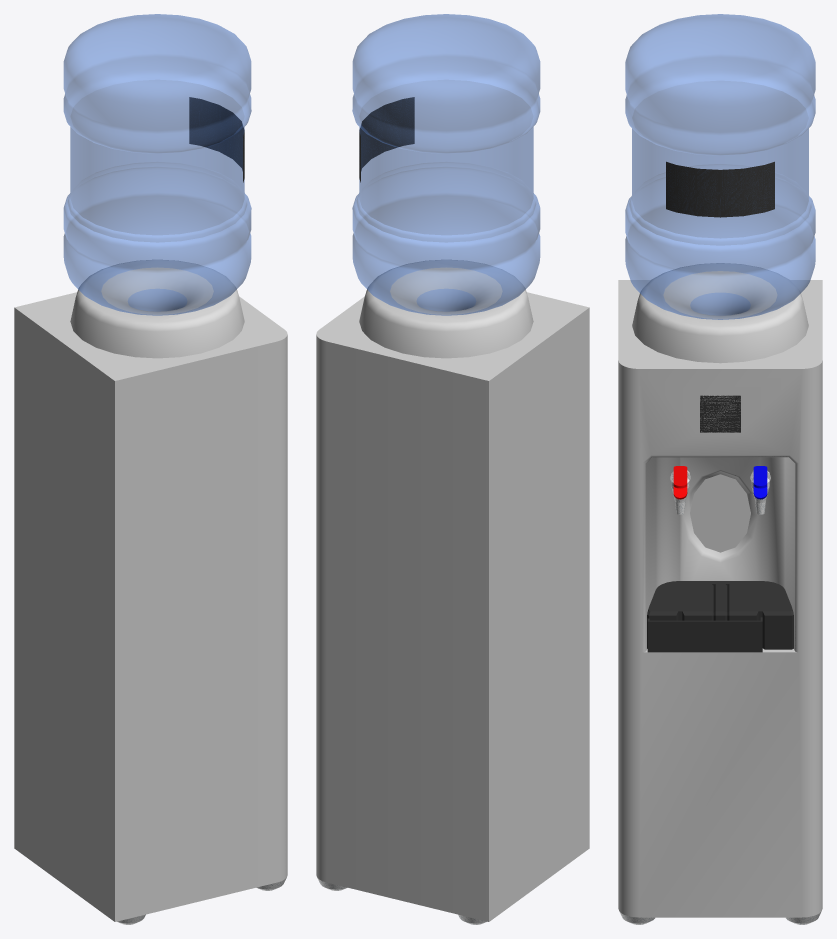
File: 饮水机.dae
3 views of the same model, side by side, from view 1: azimuth 30°, elevation 25°; view 2: azimuth 150°, elevation 25°; view 3: azimuth 270°, elevation 25° (orthographic).
Visible parts, largest first — view 1: Water_dispenser_Box (×3), Water_dispenser_Bottle (×2); view 2: Water_dispenser_Box (×3), Water_dispenser_Bottle (×2); view 3: Water_dispenser_Box (×6), Water_dispenser_Bottle (×2), Water_dispenser_02, Water_dispenser_03.
Boxes of the visible parts, bbox=[...] form: Water_dispenser_Box (×3): bbox=[14, 260, 287, 921]; Water_dispenser_Bottle (×2): bbox=[63, 14, 251, 315]; Water_dispenser_Box (×3): bbox=[316, 260, 589, 921]; Water_dispenser_Bottle (×2): bbox=[352, 14, 540, 315]; Water_dispenser_Box (×6): bbox=[618, 263, 822, 917]; Water_dispenser_Bottle (×2): bbox=[625, 14, 815, 319]; Water_dispenser_02: bbox=[647, 581, 793, 649]; Water_dispenser_03: bbox=[647, 617, 762, 652].
Size of the model in its own units: 12.3 by 11.81 by 53.54.
